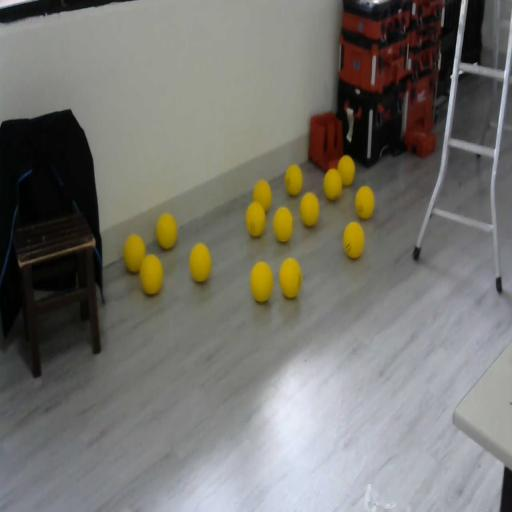FUEL: (139, 252, 164, 296), (249, 260, 274, 304), (278, 256, 302, 299), (188, 242, 212, 283), (155, 211, 178, 250), (343, 221, 365, 260), (124, 234, 145, 273), (272, 206, 294, 242), (299, 191, 320, 227), (252, 179, 273, 214), (354, 185, 374, 219), (324, 168, 342, 201), (284, 164, 302, 196), (337, 155, 355, 186)
